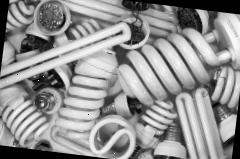lightbulb: (0, 0, 240, 159), (30, 0, 73, 37)
